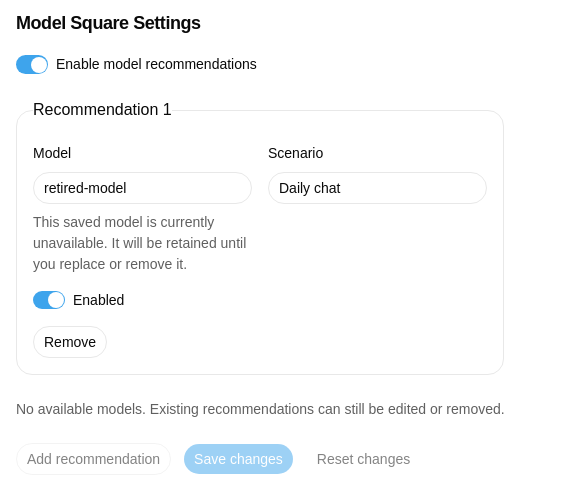
model square settings interactions › retains unavailable saved models, supports reset and removal, and disables adding when no models exist
The image size is (562, 492).
Check: the text "This saved model is currently unavailable. It will be retained until you replace or remove it." is shown, box x1=33 y1=214 x2=246 y2=272
Check: the dropdown labelled "Model" holds "retired-model", box x1=34 y1=172 x2=224 y2=204
Step 1. Select "Writing" in the dropdown labelled "Scenario" → (378, 188), box x1=268 y1=172 x2=487 y2=204
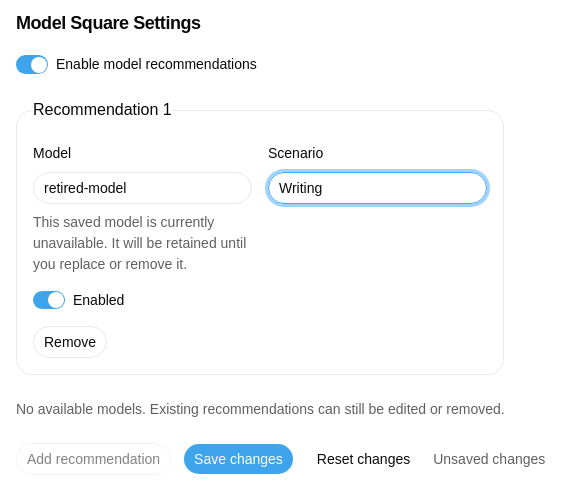
Step 2. Click the button "Reset changes" → click(364, 459), box x1=306 y1=443 x2=421 y2=475
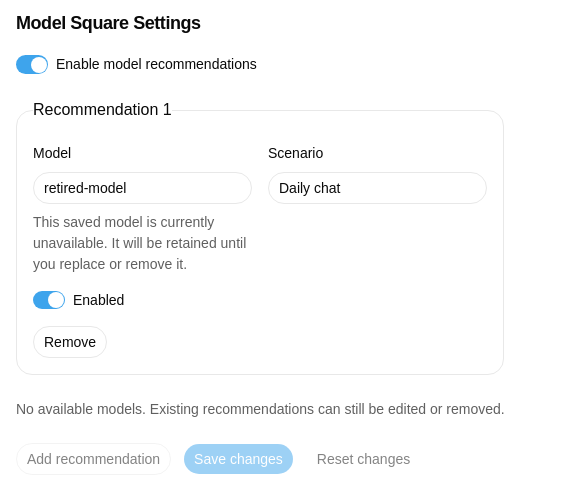
Check: the dropdown labelled "Scenario" shows "Daily chat", box x1=268 y1=172 x2=487 y2=204
Step 3. Click the switch named "Enable model recommendations" next to "Enable model recommendations" → click(32, 65), box x1=16 y1=55 x2=48 y2=74
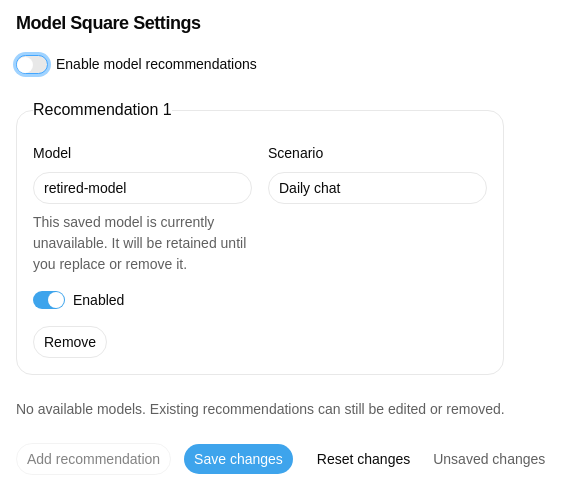
Step 4. Click the button "Save changes" → click(238, 459), box x1=183 y1=443 x2=294 y2=475
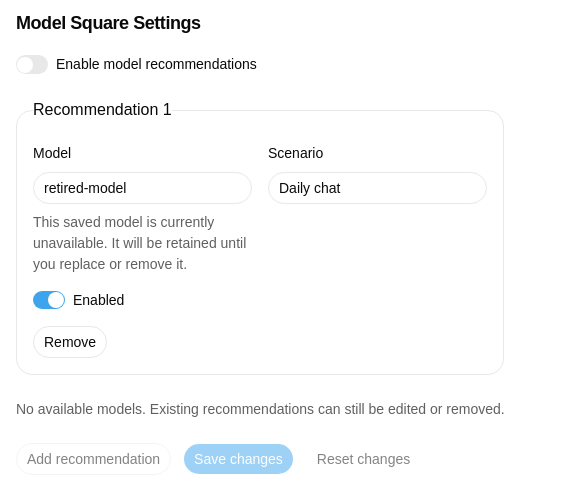
Check: the button "Save changes" is disabled, box x1=183 y1=443 x2=294 y2=475
Step 5. Click the button with aria-label "Remove recommendation 1" → click(70, 342), box x1=33 y1=326 x2=107 y2=358
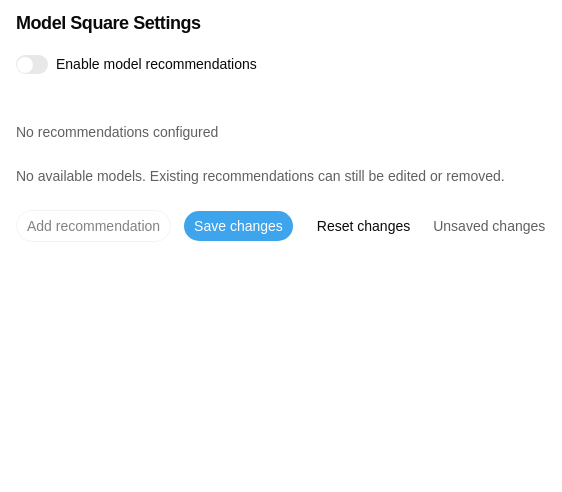
Check: the text "No recommendations configured" is shown, box x1=16 y1=124 x2=218 y2=140
